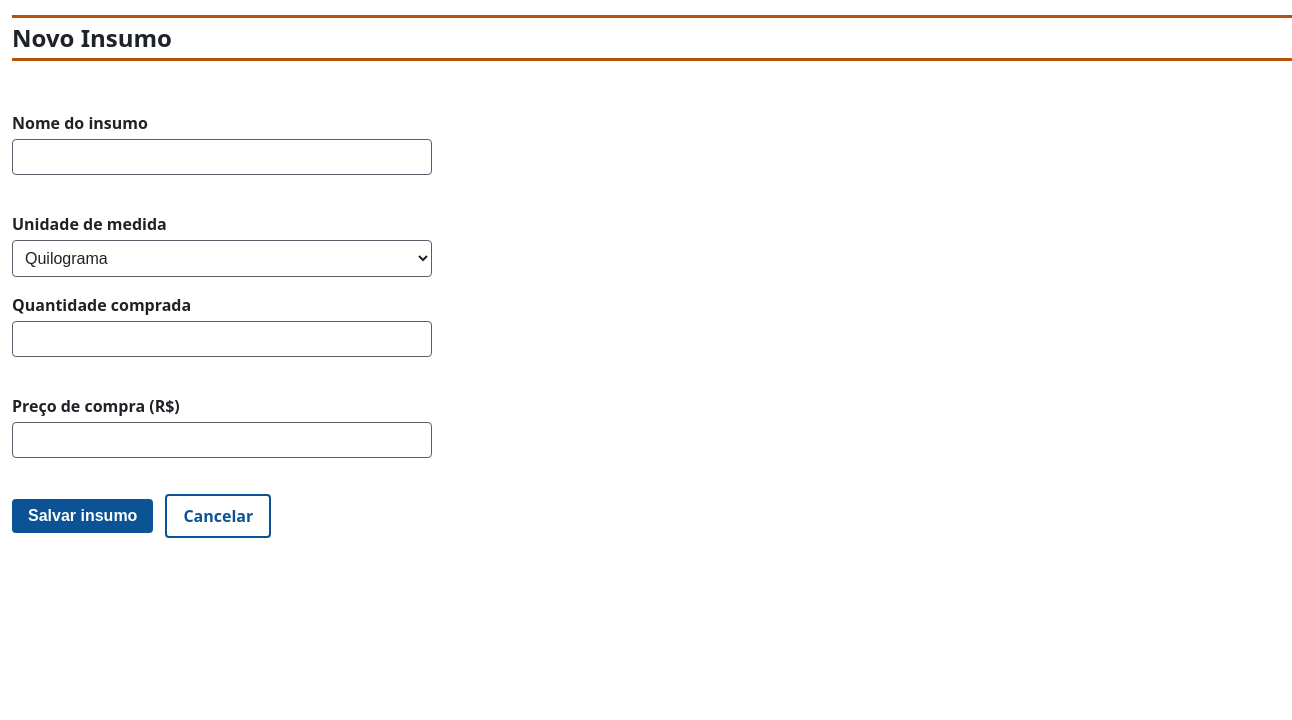
Test case: InsumoForm (Modo Criação) › (b) submit com campos vazios exibe erros obrigatórios via mock 400
The image size is (1292, 720).
Click the button "Salvar insumo". click: click(83, 516)
box: [12,499,153,533]
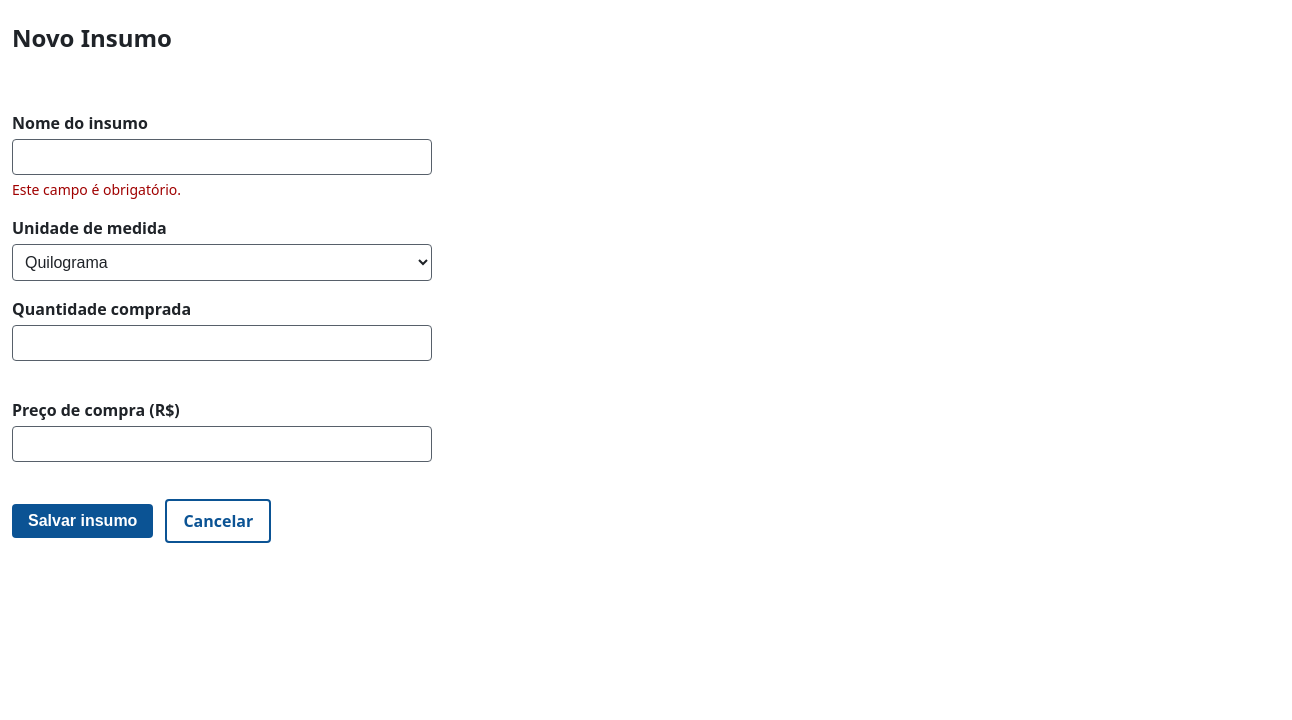
Check: the text "Este campo é obrigatório." is shown, box [12,180,181,199]
